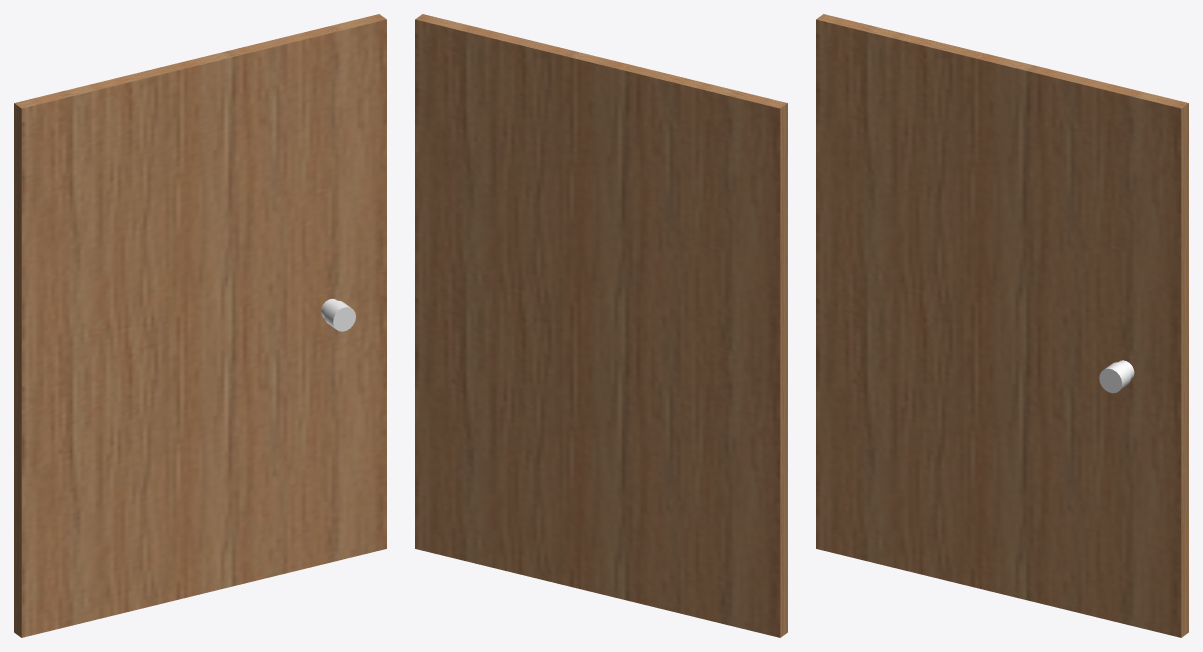
Rendered from Door.FBX.
3 renders of one model, left to right at view 1: azimuth 30°, elevation 25°; view 2: azimuth 150°, elevation 25°; view 3: azimuth 330°, elevation 25°, orthographic.
Visible parts, largest first — view 1: Box005, Cylinder001; view 2: Box005; view 3: Box005, Cylinder001.
Part boxes in pixels (x1,y1,x2,y2): Box005: (14, 14, 386, 637); Cylinder001: (324, 300, 355, 331); Box005: (415, 14, 787, 637); Box005: (816, 14, 1188, 637); Cylinder001: (1099, 362, 1130, 393).
Bounding box in the file's own units: 18.2 × 25.2 × 1.87.
Materials: 2 (1 with a texture image).
